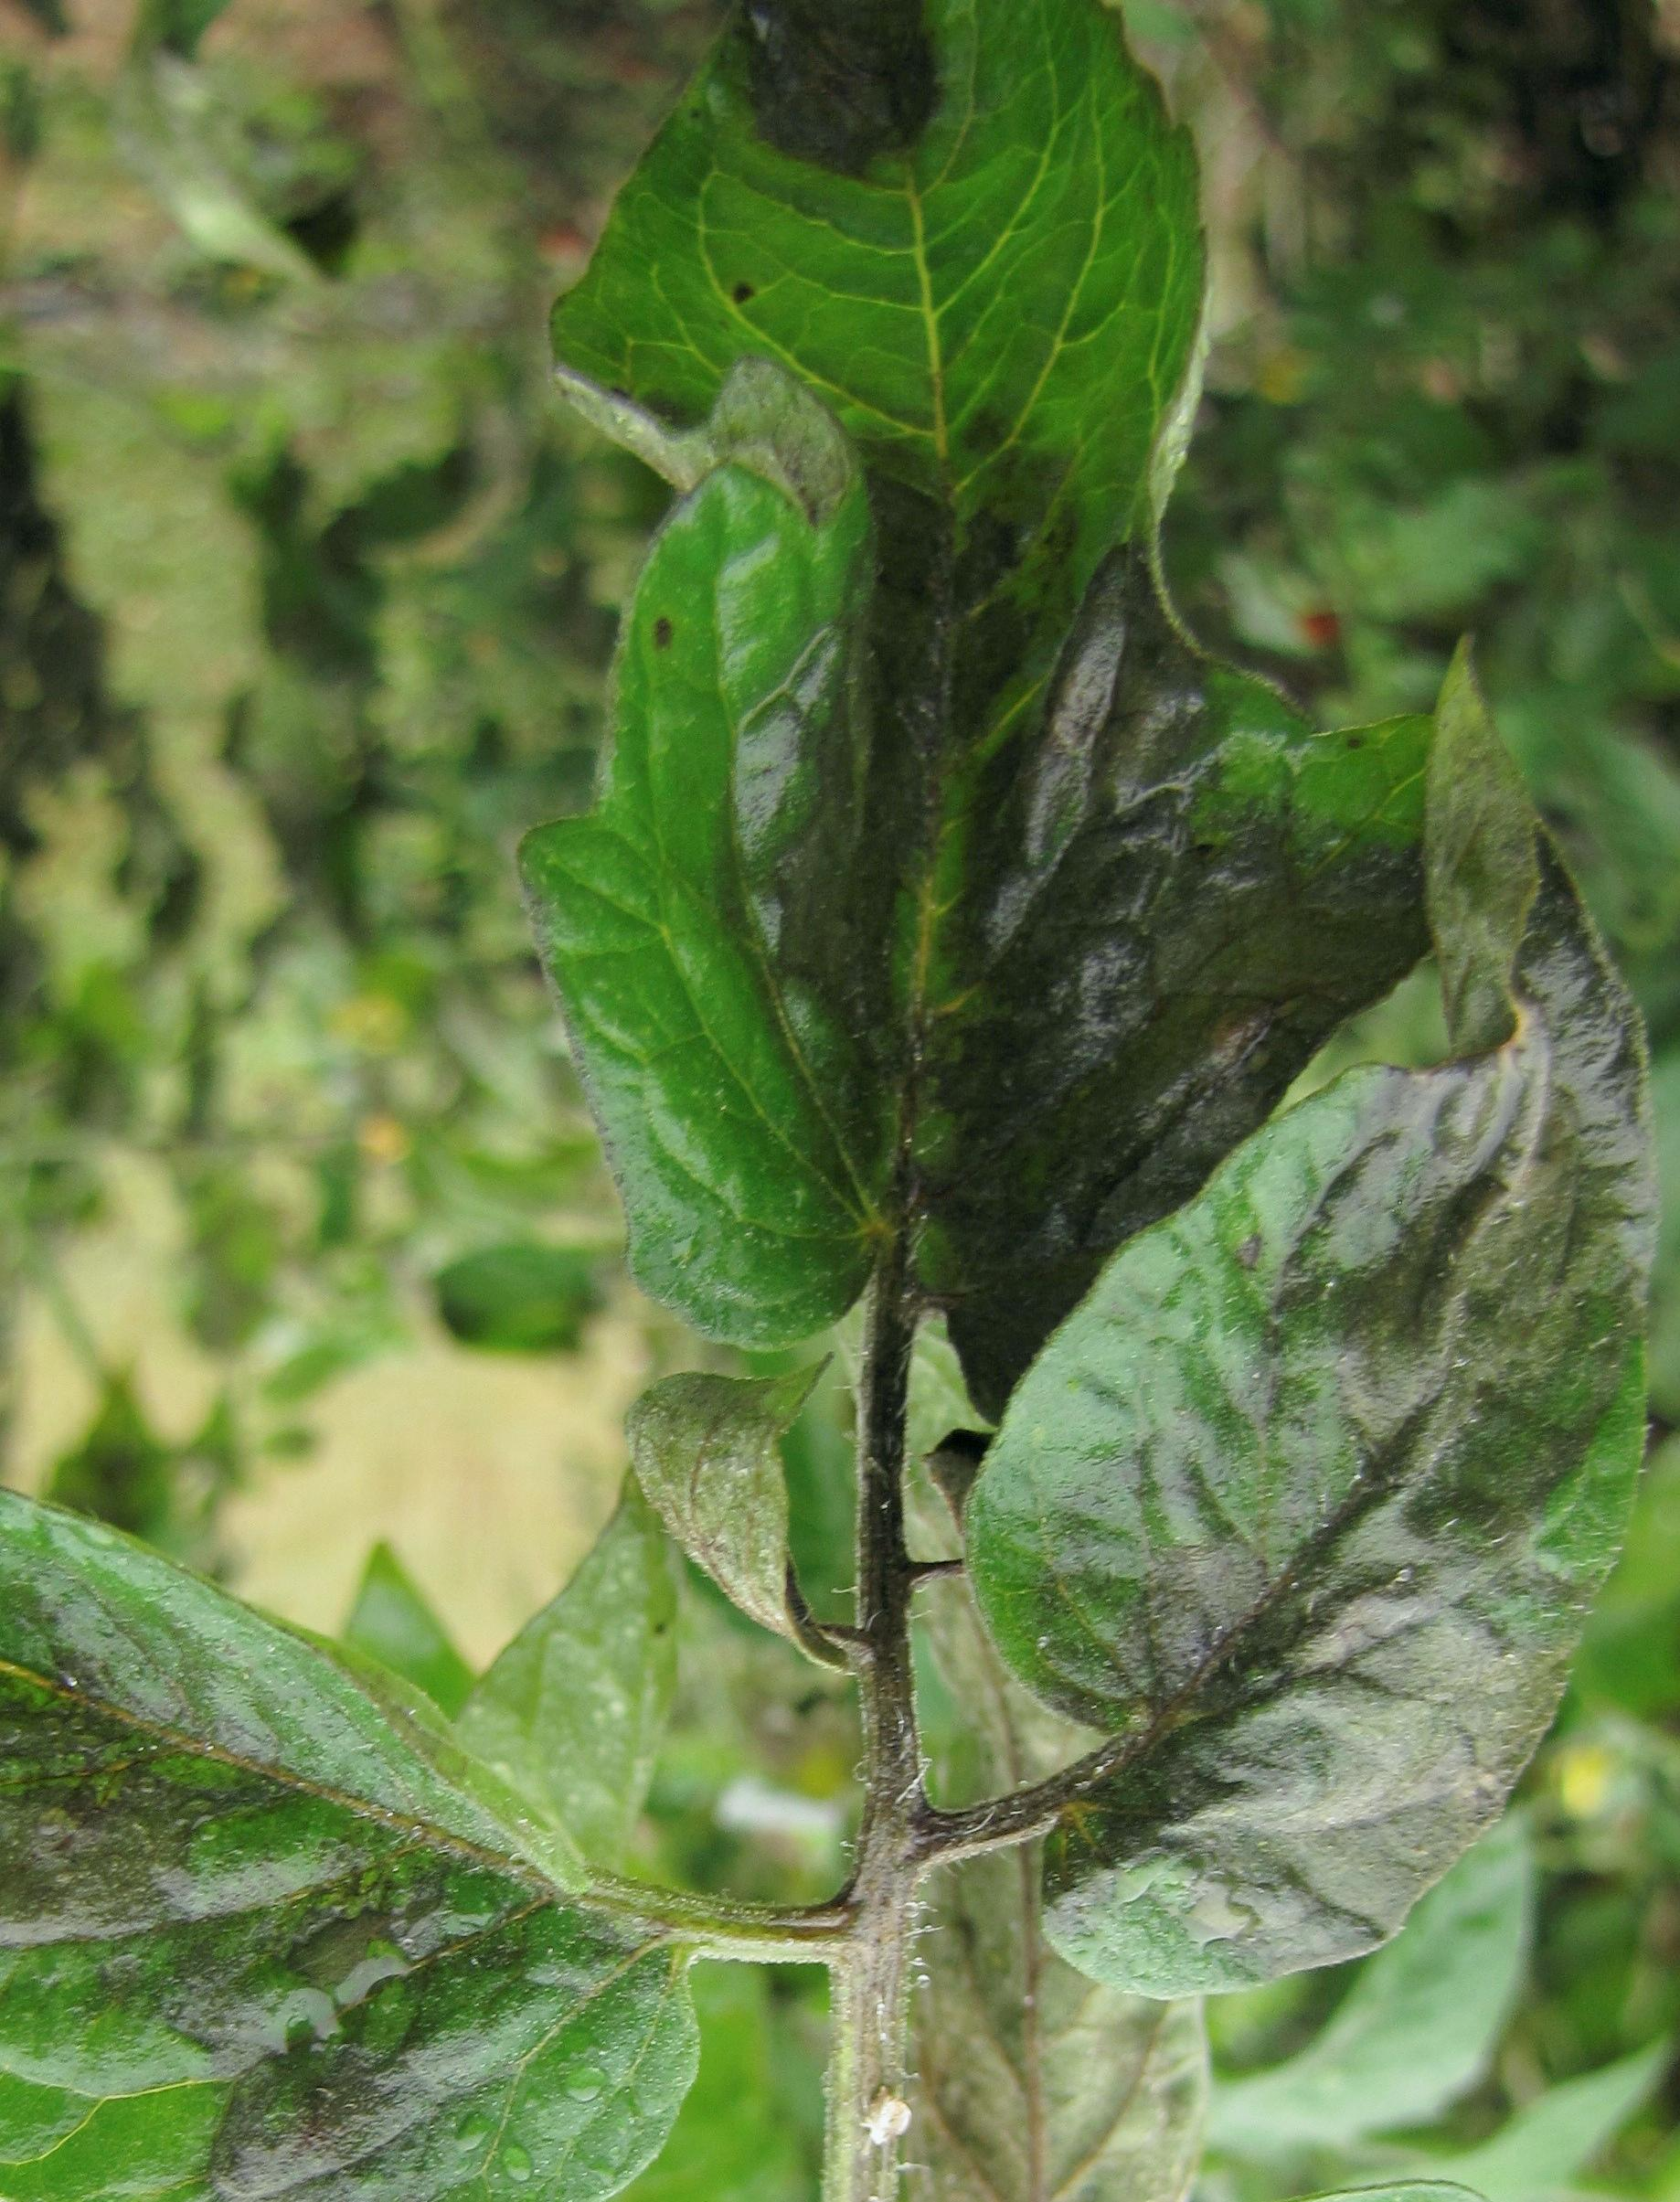Tomato leaf late blight: (474, 0, 1394, 1396), (933, 706, 1680, 1984), (0, 1308, 707, 2202)
